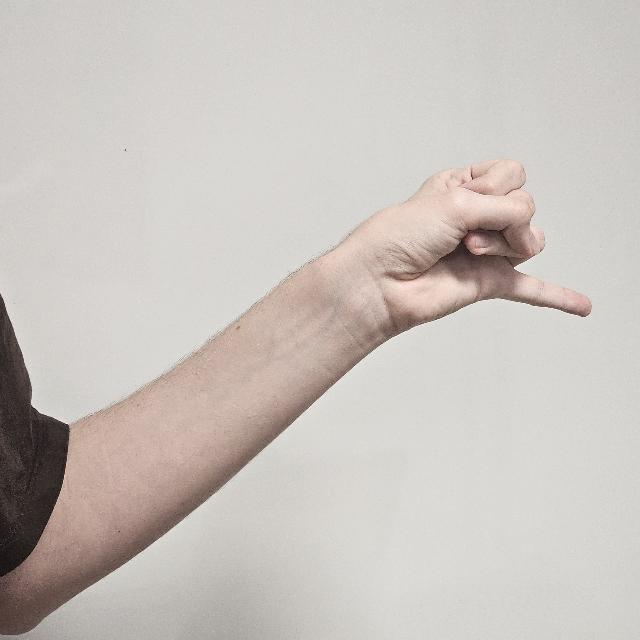Esquerda: (343, 133, 584, 323)
